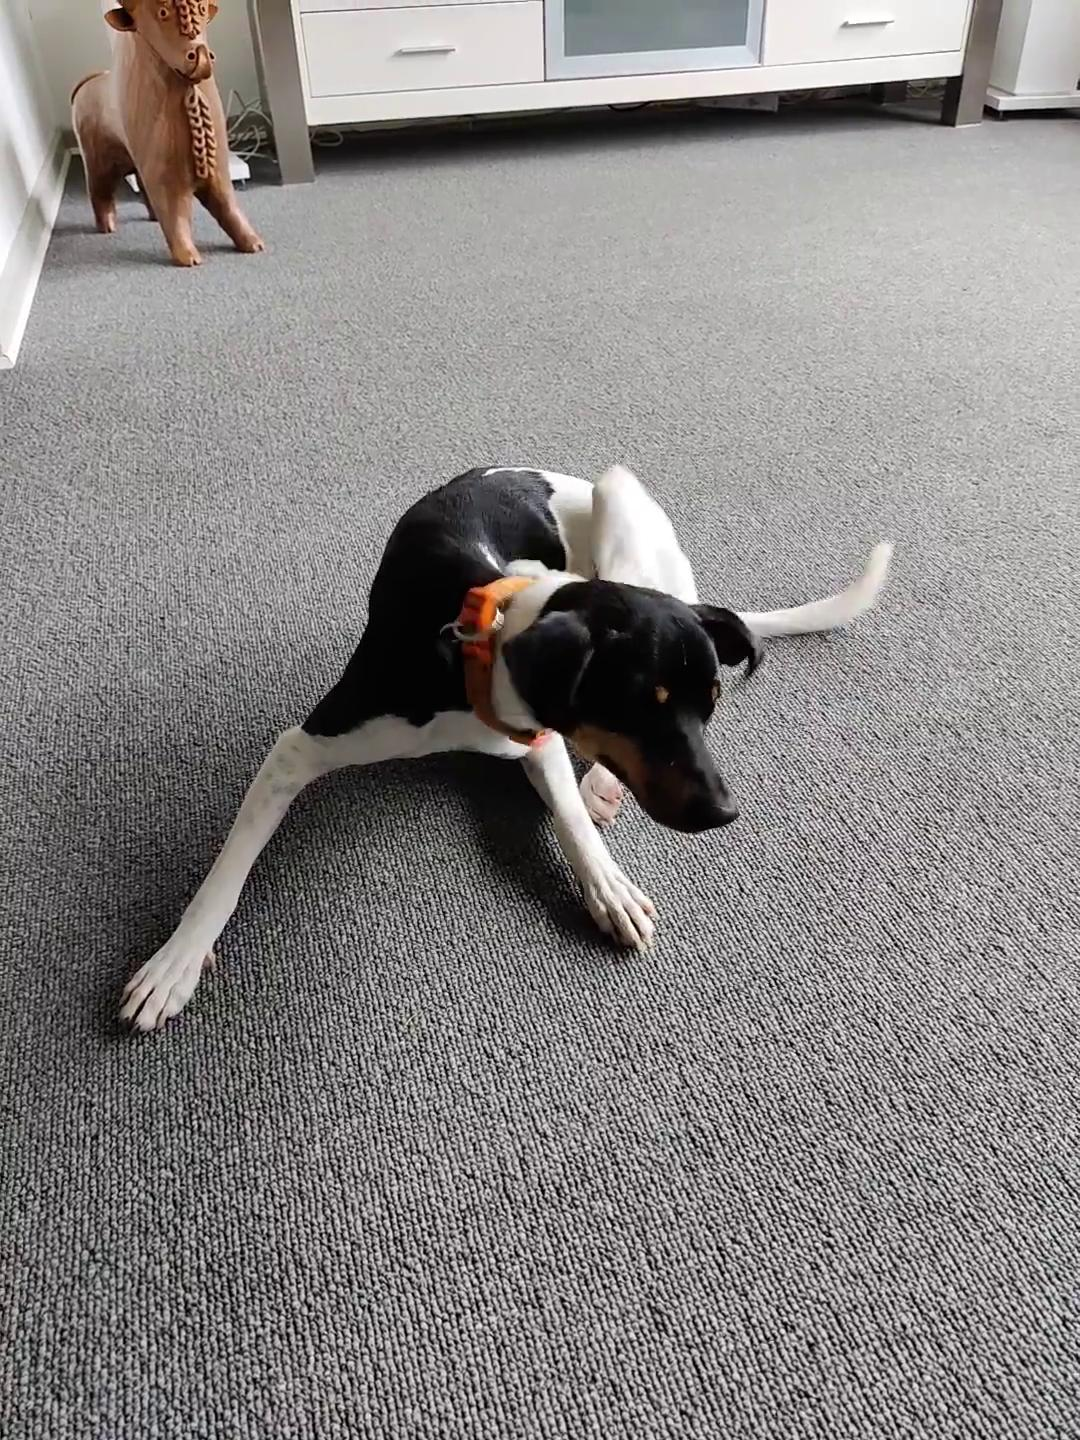Dog: (98, 437, 909, 1052)
